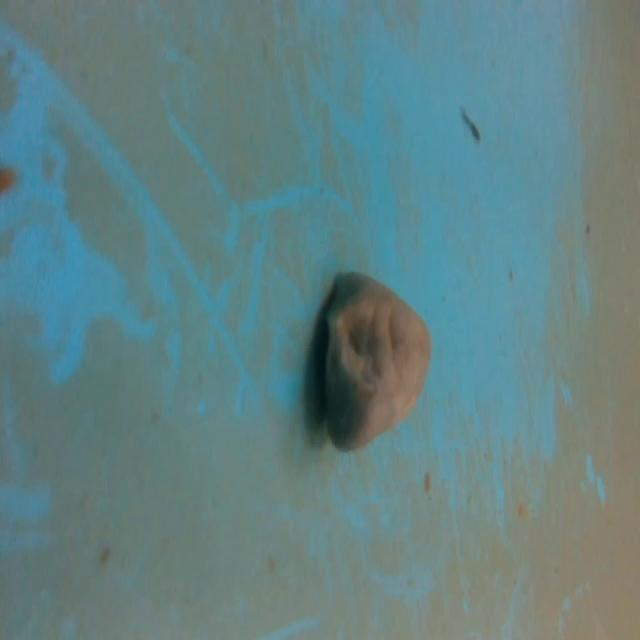rock: (313, 260, 437, 465)
